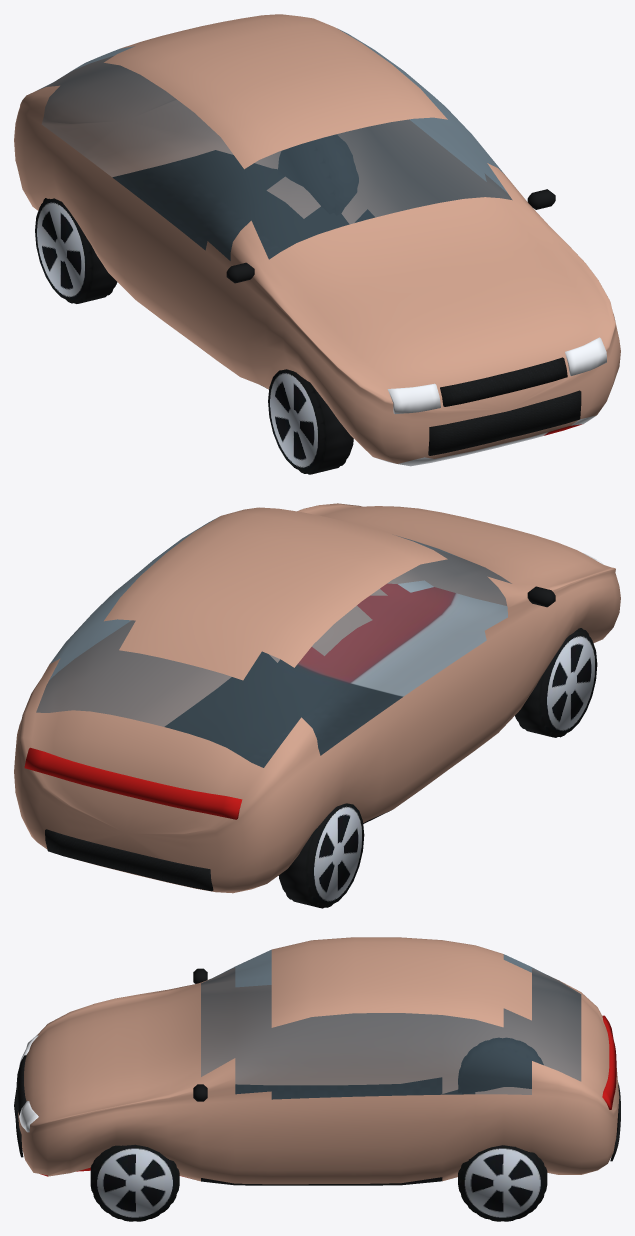
File: parked_hatch_aaa-9c73b7227eba.glb
3 views of the same model, one above another, from view 1: azimuth 30°, elevation 25°; view 2: azimuth 150°, elevation 25°; view 3: azimuth 270°, elevation 25° (orthographic). The views are drawn at different scales.
Visible parts, largest first — view 1: parked_hatch_aaa_body; view 2: parked_hatch_aaa_body; view 3: parked_hatch_aaa_body.
Part boxes in pixels (box(x1,y1,x2,y2)): parked_hatch_aaa_body: box(14, 14, 620, 474); parked_hatch_aaa_body: box(14, 503, 620, 908); parked_hatch_aaa_body: box(14, 937, 620, 1221).
Bounding box in the file's own units: 1.9 × 1.45 × 3.9.
Materials: 3 (1 with a texture image).
